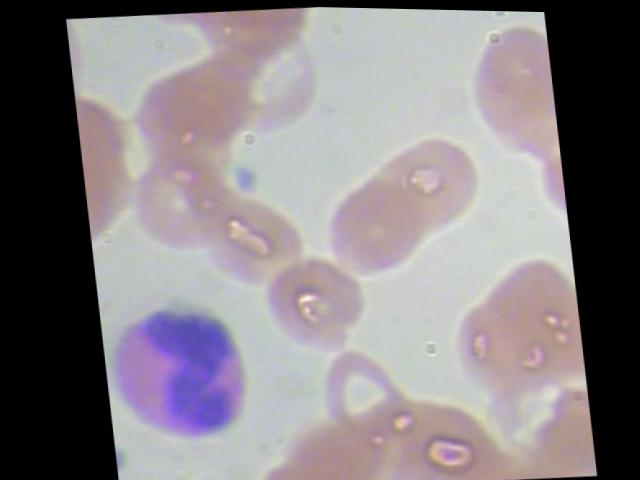Platelets: (225, 158, 260, 198)
Red Blood Cells: (458, 11, 559, 167), (354, 123, 487, 237), (252, 247, 368, 360), (187, 183, 303, 296), (313, 166, 428, 279), (124, 8, 232, 42)
White Blood Cells: (97, 282, 263, 453)
